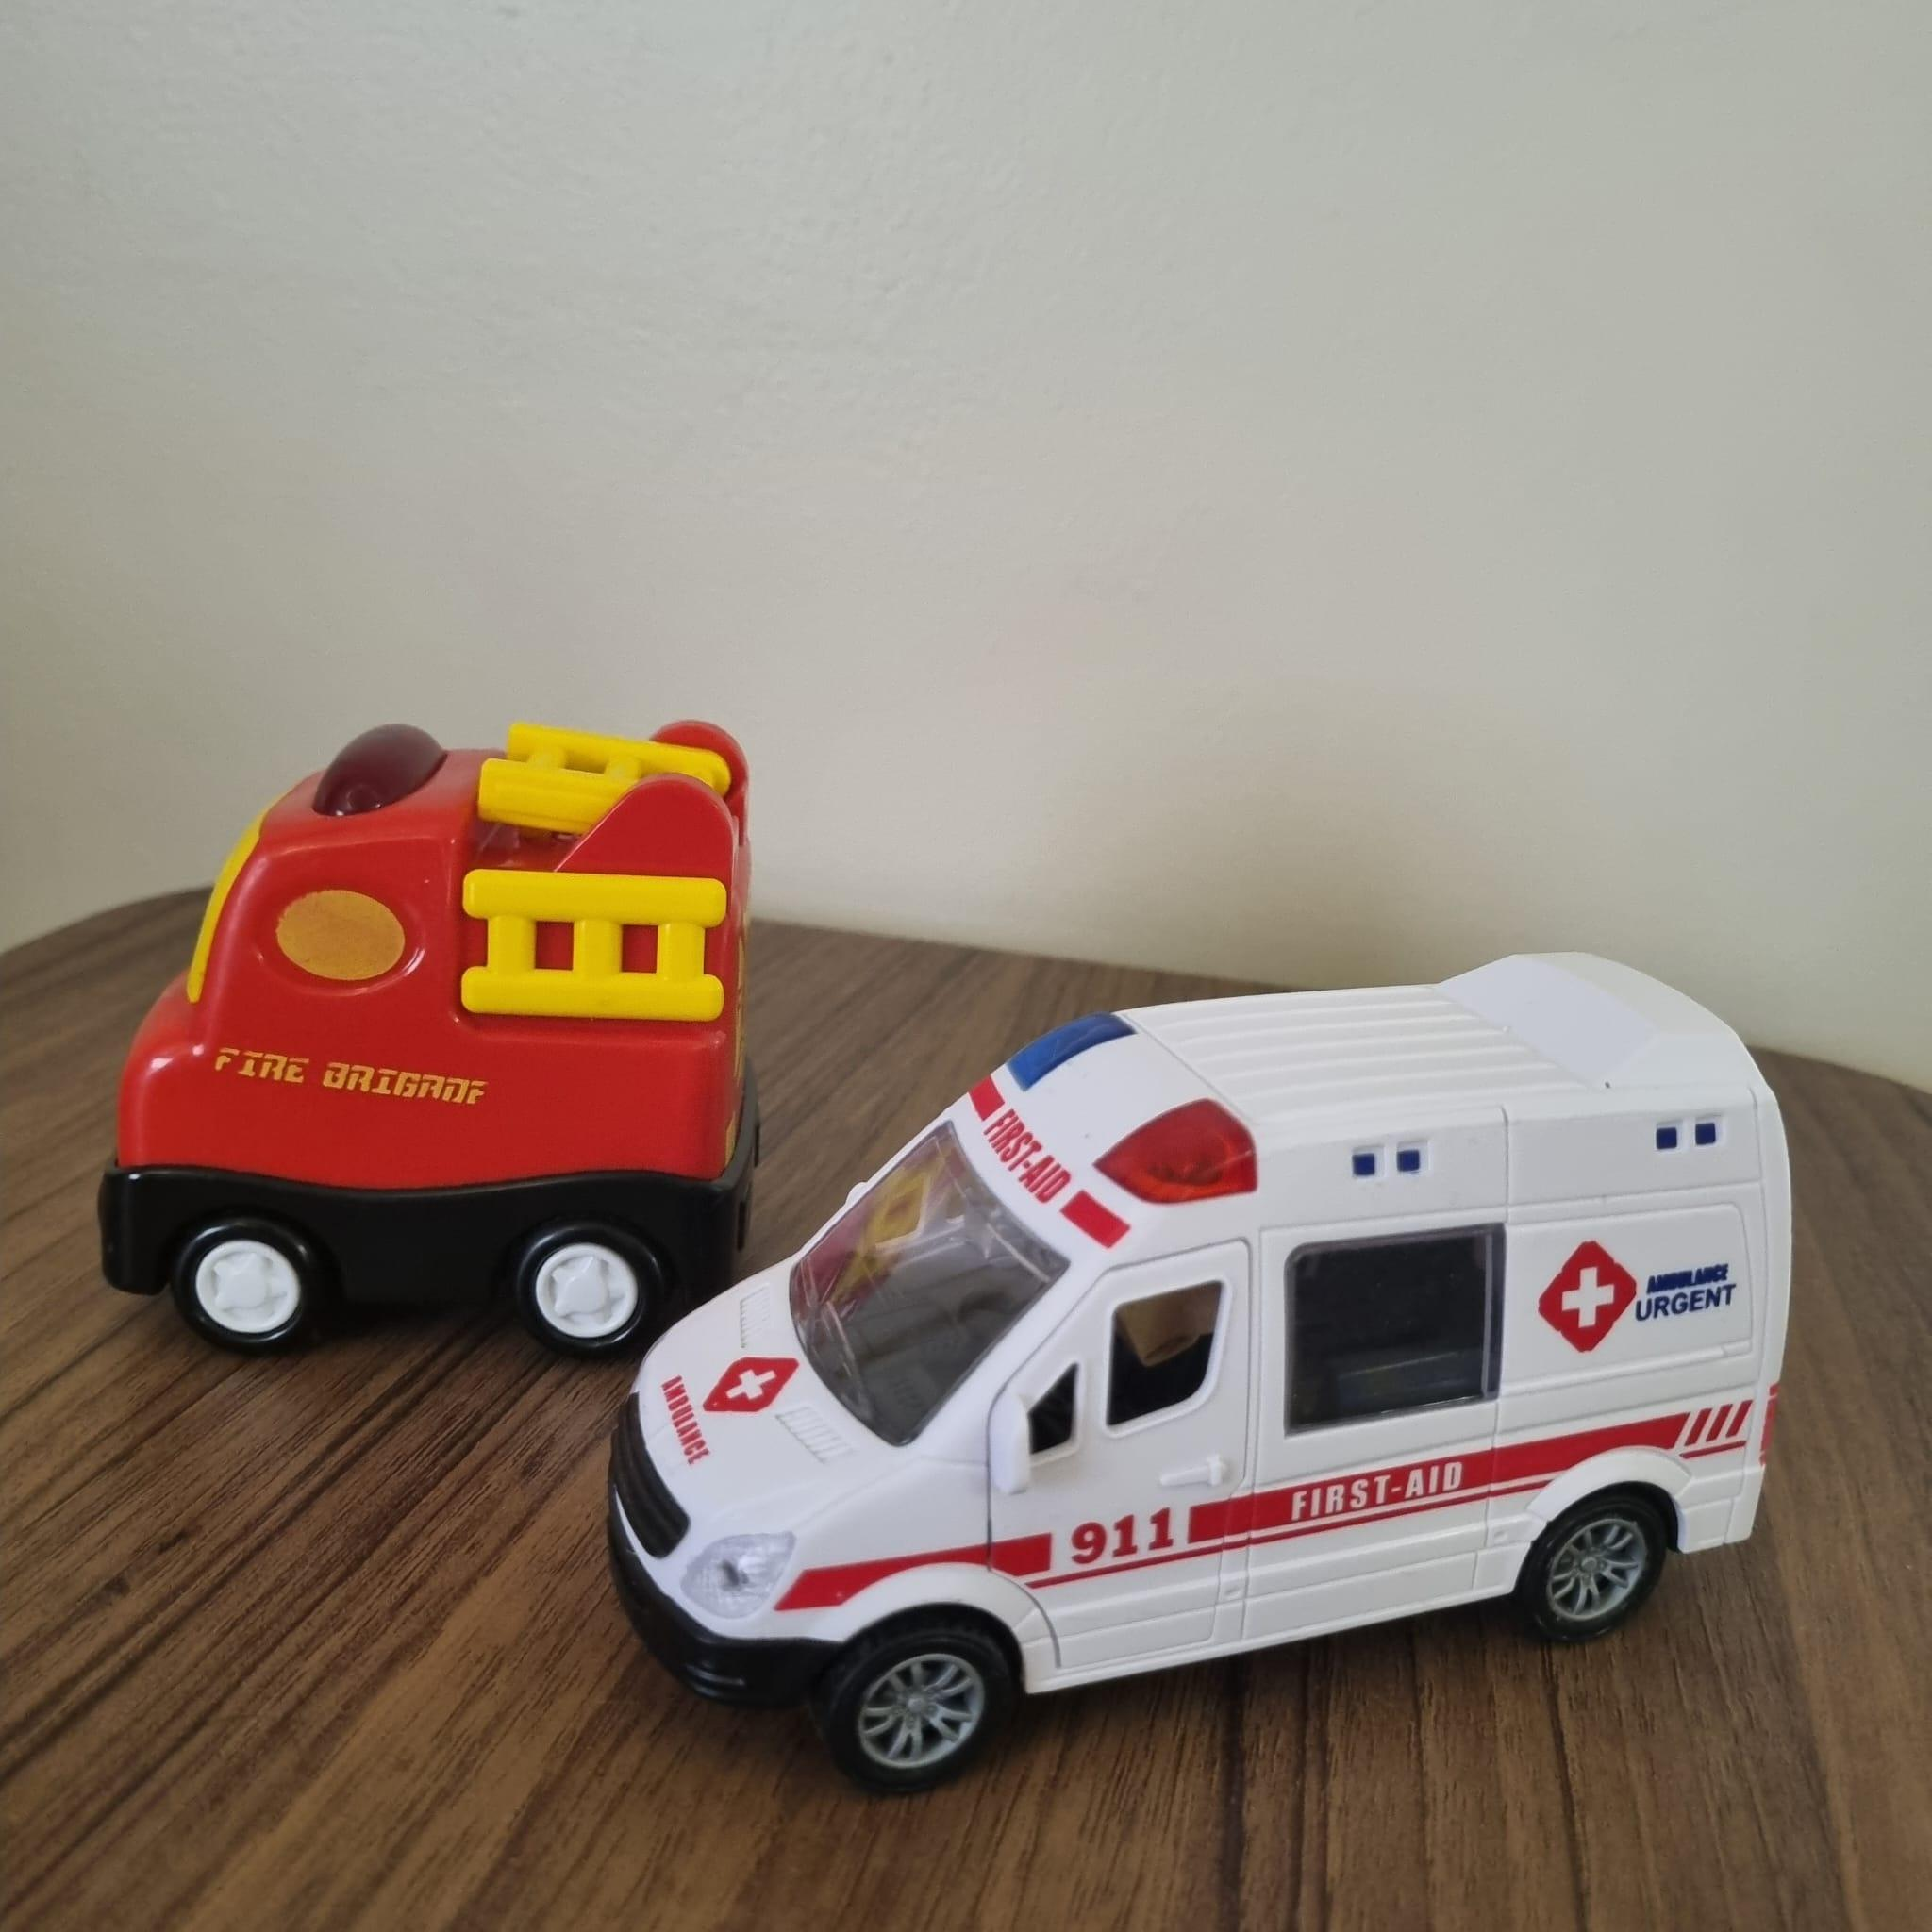ambulance_off: (603, 955, 1787, 1790)
firetruck_off: (97, 718, 761, 1353)
